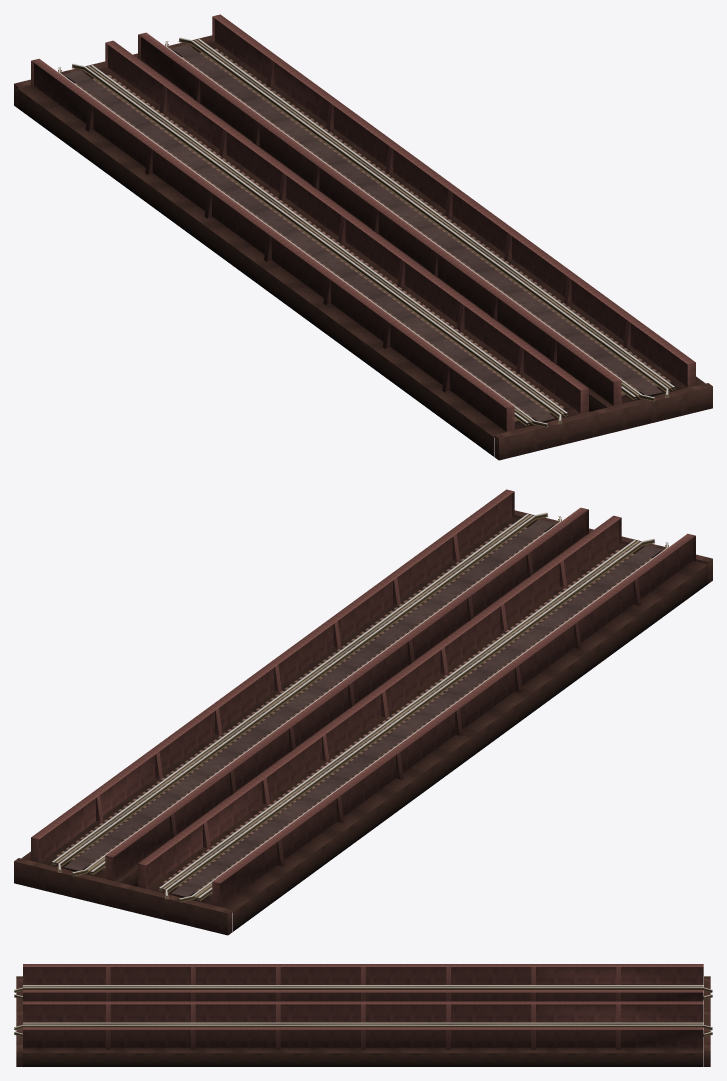
Rendered from KH_RAIL_BRIDGE_100.glb.
The picture shows the model from 3 angles, top to bottom: view 1: azimuth 30°, elevation 25°; view 2: azimuth 150°, elevation 25°; view 3: azimuth 270°, elevation 25°; orthographic projection. The views are drawn at different scales.
Visible parts, largest first — view 1: R000, obj15, R000_RG_L, bone0, obj10, obj8, obj12, obj13, obj9, obj11, obj14; view 2: R000, bone0, R000_RG_L, obj12, obj8, obj10, obj13, obj11, obj9, obj14; view 3: R000, R000_RG_R, obj15, bone0.
Part boxes in pixels (x1,y1,x2,y2): R000: (18, 14, 705, 456); obj15: (494, 383, 712, 460); R000_RG_L: (87, 39, 671, 414); bone0: (14, 35, 261, 117); obj10: (241, 170, 442, 250); obj8: (122, 83, 323, 163); obj12: (360, 257, 561, 337); obj13: (422, 302, 618, 378); obj9: (184, 129, 380, 204); obj11: (303, 215, 499, 291); obj14: (479, 344, 670, 421); R000: (21, 489, 708, 931); bone0: (14, 823, 242, 935); R000_RG_L: (55, 514, 639, 890); obj12: (341, 604, 542, 683); obj8: (103, 777, 304, 857); obj10: (222, 690, 423, 770); obj13: (403, 562, 599, 638); obj11: (284, 649, 480, 725); obj9: (165, 736, 361, 812); obj14: (460, 523, 651, 596); R000: (14, 964, 712, 1066); R000_RG_R: (23, 986, 703, 1024); obj15: (16, 976, 22, 1066); bone0: (704, 976, 710, 1066).
Bounding box in the file's own units: 26 × 5.27 × 103.
Materials: 16 (15 with a texture image).
